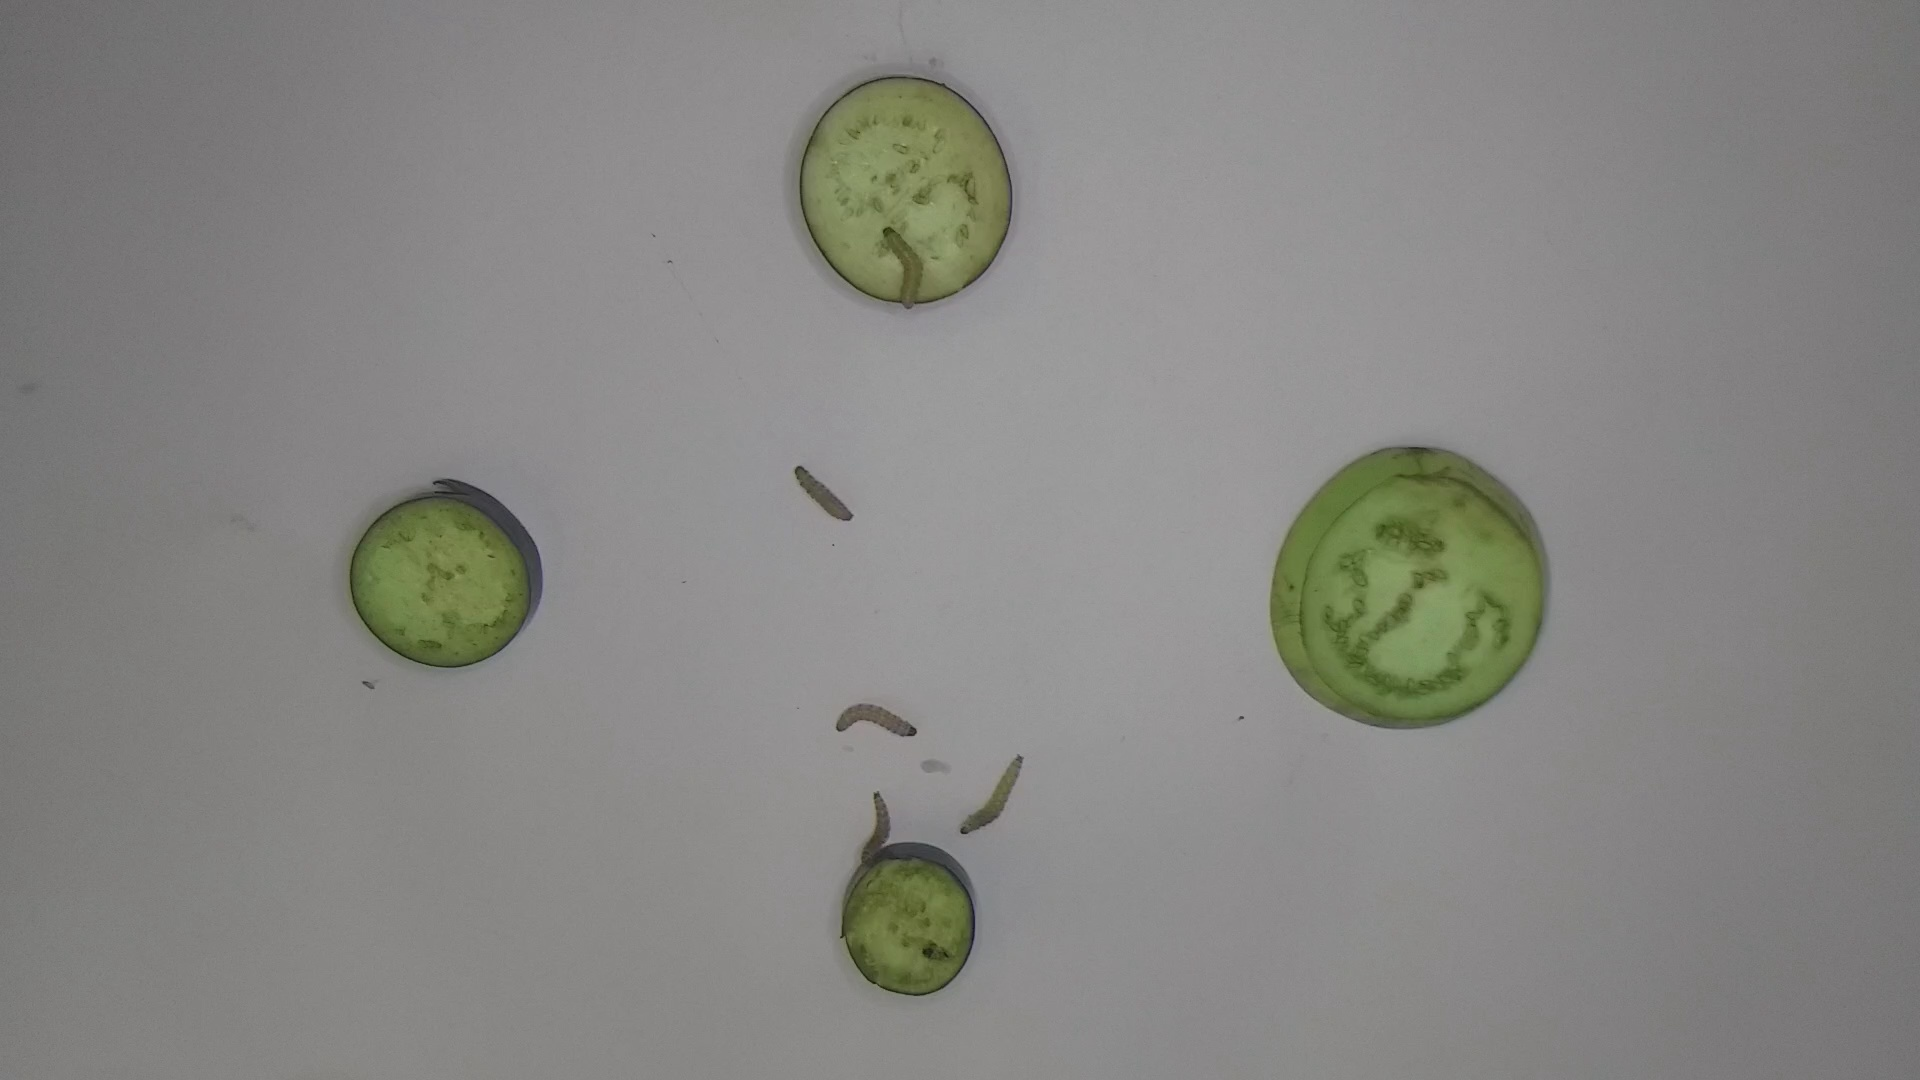efsb: (953, 745, 1033, 841), (791, 455, 858, 531), (832, 695, 923, 749), (881, 224, 926, 314), (853, 789, 899, 870)
eggplant: (1263, 426, 1564, 736), (793, 67, 1023, 314), (338, 473, 551, 674), (836, 831, 997, 1004)
